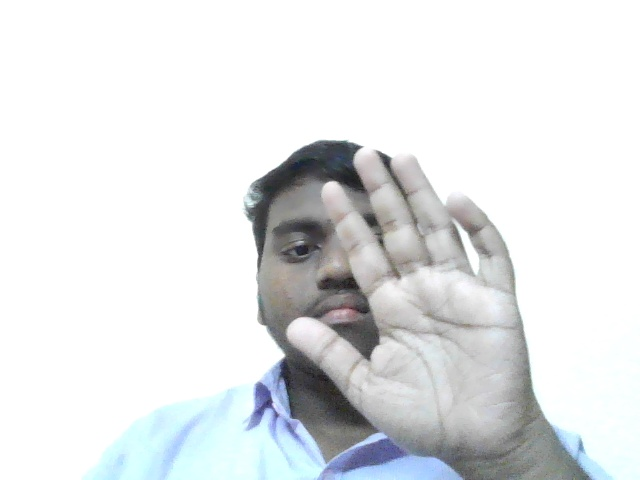Hello: (282, 135, 542, 454)
